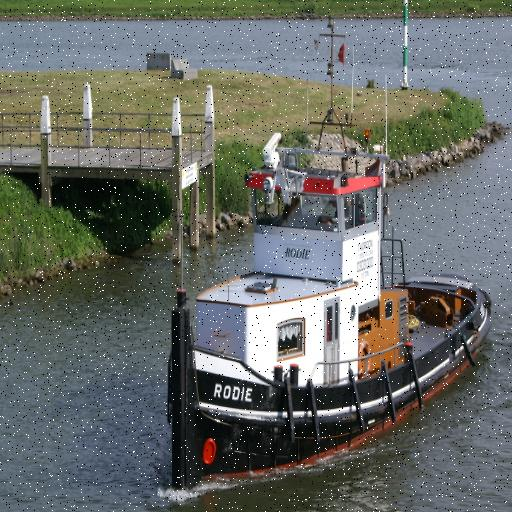tugboat: (167, 127, 497, 505)
